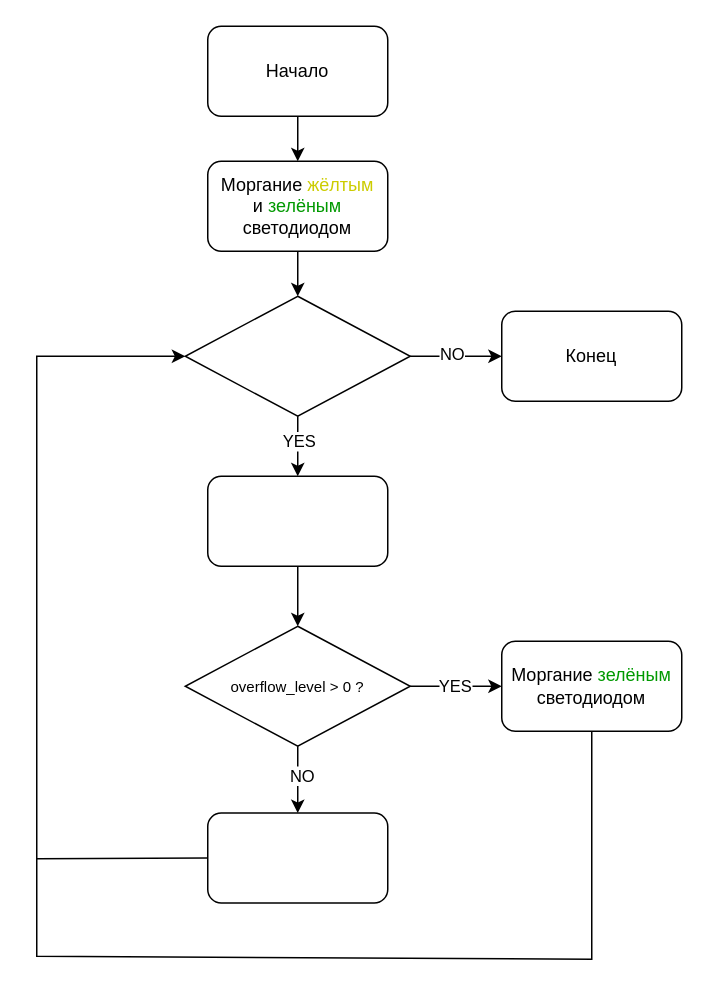
This 708x998 diagram has some shape labels left out. The shapes that lost their labels are listed below. From the top down, each one's box as (x1, y1, x2, y2) in pixels, then its label:
(184, 295, 410, 416): abs(overflow_level) > i ?
(206, 475, 388, 566): i++
(206, 812, 388, 903): Моргание красным светодиодом
